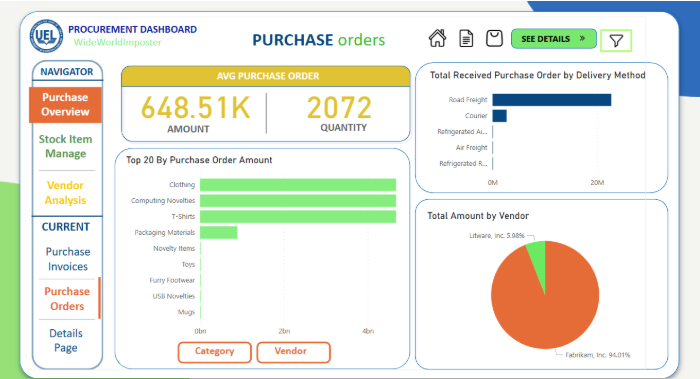

The dashboard page shown, as its layout file describes it:
{"tool":"powerbi","page":{"name":"purchase order","canvas":[1280,720],"ordinal":2},"visuals":[{"type":"shape","box":[51.7,28.3,1181.7,670],"z":0},{"type":"image","box":[1081.5,74.1,56,38],"z":0,"group":"g2"},{"type":"image","box":[75,50,73.3,68.3],"z":1000,"group":"g1"},{"type":"shape","box":[925.1,71.6,150,35],"z":1000,"group":"g2"},{"type":"shape","box":[237,131,516.4,142.9],"z":1000},{"type":"textbox","box":[143.8,56.2,250,35],"z":2000,"group":"g1"},{"type":"shape","box":[757.4,369.4,443.8,299.2],"z":2000},{"type":"image","box":[765.5,68.1,62,40],"z":3000,"group":"g2"},{"type":"textbox","box":[153.4,78.3,183.3,48.3],"z":3000,"group":"g1"},{"type":"shape","box":[241.8,135.8,507.3,36.9],"z":3000},{"type":"image","box":[826.8,66.6,40,43.8],"z":4000,"group":"g2"},{"type":"shape","box":[84.5,126,126,544.1],"z":4000,"group":"g1"},{"type":"textbox","box":[405.2,137.4,211.9,57.3],"z":4000},{"type":"image","box":[869.3,66.6,52.5,43.8],"z":5000,"group":"g2"},{"type":"shape","box":[230.5,280.6,518.3,388],"z":5000},{"type":"textbox","box":[466.3,65.4,277.5,50],"z":6000,"group":"g2"},{"type":"shape","box":[757.4,130.3,443.8,229.1],"z":6000},{"type":"textbox","title":"main","box":[938.5,73.6,141.2,36.2],"z":7000,"group":"g2"},{"type":"textbox","box":[878,127,216,40],"z":7000},{"type":"actionButton","title":"Home","box":[770.6,67.8,45,41.2],"z":8000,"group":"g2"},{"type":"textbox","box":[1054.3,127.1,117.1,40],"z":8000},{"type":"actionButton","title":"filter","box":[1081.5,72.1,56,40],"z":9000,"group":"g2"},{"type":"image","box":[1033.1,76.2,35.7,24.3],"z":10000,"group":"g2"},{"type":"card","fields":{"Values":["fact_PurchaseOrders.AverageAmountNoTax"]},"box":[263.4,161.8,216.2,80.2],"z":11000},{"type":"card","fields":{"Values":["factPurchaseOrders.QuantityPO"]},"box":[475.3,138.9,297.8,127.4],"z":12000},{"type":"barChart","title":"Top 20 By Purchase Order Amount","fields":{"Y":["Sum(factPurchaseOrders.TransactionAmount)"],"Category":["dim_Stock.StockGroupName"]},"box":[244.8,290.6,518.3,329.3],"z":13000},{"type":"clusteredBarChart","title":"Total Received Purchase Order by Delivery Method","fields":{"Category":["dim_DeliveryMethods.DeliveryMethodName"],"Y":["Sum(fact_PurchaseOrders.ReceivedOuters)"]},"box":[777.4,141.7,406.6,217.6],"z":14000},{"type":"textbox","box":[317.9,230.5,108.8,35.8],"z":15000},{"type":"textbox","box":[585.6,227.7,108.8,35.8],"z":16000},{"type":"shape","box":[469.6,183.3,53,71.6],"z":17000},{"type":"pieChart","title":"Total Amount by Vendor","fields":{"Category":["dimSuppliers.SupplierName"],"Y":["Sum(factPurchaseOrders.TransactionAmountNoTax)"]},"box":[773.2,388,423.8,280.6],"z":18000},{"type":"shape","box":[340.8,620,130.3,38.7],"z":19000},{"type":"shape","box":[479.6,620,130.3,38.7],"z":20000},{"type":"textbox","box":[366.5,620,113.1,40.1],"z":21000},{"type":"textbox","box":[505.4,620,113.1,40.1],"z":22000},{"type":"group","id":"g1","title":"Group 3","box":[74.5,50,1087,620.1],"z":23000},{"type":"group","id":"g2","title":"Group 1","box":[466.3,65.4,671.2,50],"z":25000,"group":"g1"},{"type":"textbox","box":[96,130.3,113.1,37.2],"z":27000,"group":"g1"},{"type":"textbox","box":[80.2,173.2,127.4,63],"z":28000,"group":"g1"},{"type":"textbox","box":[74.5,246.3,140.3,63],"z":29000,"group":"g1"},{"type":"textbox","box":[91.7,327.9,104.5,63],"z":30000,"group":"g1"},{"type":"textbox","box":[97.4,399.5,113.1,37.2],"z":31000,"group":"g1"},{"type":"textbox","box":[91.9,443.6,113.6,60.9],"z":32000,"group":"g1"},{"type":"textbox","box":[90.2,514,113.1,61.6],"z":33000,"group":"g1"},{"type":"textbox","box":[88.8,587,113.1,61.6],"z":34000,"group":"g1"},{"type":"shape","box":[86,126,124.6,71.6],"z":35000,"group":"g1"},{"type":"shape","box":[97.4,283.5,98.8,71.6],"z":36000,"group":"g1"},{"type":"shape","box":[97.4,473.9,98.8,71.6],"z":37000,"group":"g1"},{"type":"shape","box":[84.5,363.7,124.6,71.6],"z":38000,"group":"g1"},{"type":"shape","box":[97.4,545.5,98.8,71.6],"z":39000,"group":"g1"},{"type":"shape","box":[182.4,507.1,42.9,72.9],"z":40000,"group":"g1"},{"type":"actionButton","title":"see detail","box":[925.8,68.6,151.4,40],"z":43000,"group":"g1"},{"type":"actionButton","title":"close detail","box":[924.3,71.4,155.7,40],"z":44000,"group":"g1"},{"type":"actionButton","box":[84.3,241.4,124.3,67.1],"z":45000,"group":"g1"},{"type":"actionButton","box":[88.6,322.9,121.4,75.7],"z":46000,"group":"g1"},{"type":"actionButton","box":[772.9,68.6,41.4,38.6],"z":47000,"group":"g1"},{"type":"actionButton","box":[870,68.6,51.4,40],"z":48000,"group":"g1"},{"type":"actionButton","box":[1110,65.7,51.4,50],"z":49000,"group":"g1"}]}

Visuals, with their boxes on the page's 1280x720 design canvas (x1, y1, x2, y2). These are canvas units, not pixel positions in the 700x379 screenshot, which may show the page scaled, cropped or inside an application window:
shape: (left=52, top=28, right=1233, bottom=698)
image: (left=1082, top=74, right=1138, bottom=112)
image: (left=75, top=50, right=148, bottom=118)
shape: (left=925, top=72, right=1075, bottom=107)
shape: (left=237, top=131, right=753, bottom=274)
textbox: (left=144, top=56, right=394, bottom=91)
shape: (left=757, top=369, right=1201, bottom=669)
image: (left=766, top=68, right=828, bottom=108)
textbox: (left=153, top=78, right=337, bottom=127)
shape: (left=242, top=136, right=749, bottom=173)
image: (left=827, top=67, right=867, bottom=110)
shape: (left=84, top=126, right=210, bottom=670)
textbox: (left=405, top=137, right=617, bottom=195)
image: (left=869, top=67, right=922, bottom=110)
shape: (left=230, top=281, right=749, bottom=669)
textbox: (left=466, top=65, right=744, bottom=115)
shape: (left=757, top=130, right=1201, bottom=359)
"main" textbox: (left=938, top=74, right=1080, bottom=110)
textbox: (left=878, top=127, right=1094, bottom=167)
"Home" actionButton: (left=771, top=68, right=816, bottom=109)
textbox: (left=1054, top=127, right=1171, bottom=167)
"filter" actionButton: (left=1082, top=72, right=1138, bottom=112)
image: (left=1033, top=76, right=1069, bottom=100)
card - fact_PurchaseOrders.AverageAmountNoTax: (left=263, top=162, right=480, bottom=242)
card - factPurchaseOrders.QuantityPO: (left=475, top=139, right=773, bottom=266)
"Top 20 By Purchase Order Amount" barChart: (left=245, top=291, right=763, bottom=620)
"Total Received Purchase Order by Delivery Method" clusteredBarChart: (left=777, top=142, right=1184, bottom=359)
textbox: (left=318, top=230, right=427, bottom=266)
textbox: (left=586, top=228, right=694, bottom=264)
shape: (left=470, top=183, right=523, bottom=255)
"Total Amount by Vendor" pieChart: (left=773, top=388, right=1197, bottom=669)
shape: (left=341, top=620, right=471, bottom=659)
shape: (left=480, top=620, right=610, bottom=659)
textbox: (left=366, top=620, right=480, bottom=660)
textbox: (left=505, top=620, right=618, bottom=660)
"Group 3" group: (left=74, top=50, right=1162, bottom=670)
"Group 1" group: (left=466, top=65, right=1138, bottom=115)
textbox: (left=96, top=130, right=209, bottom=168)
textbox: (left=80, top=173, right=208, bottom=236)
textbox: (left=74, top=246, right=215, bottom=309)
textbox: (left=92, top=328, right=196, bottom=391)
textbox: (left=97, top=400, right=210, bottom=437)
textbox: (left=92, top=444, right=206, bottom=504)
textbox: (left=90, top=514, right=203, bottom=576)
textbox: (left=89, top=587, right=202, bottom=649)
shape: (left=86, top=126, right=211, bottom=198)
shape: (left=97, top=284, right=196, bottom=355)
shape: (left=97, top=474, right=196, bottom=546)
shape: (left=84, top=364, right=209, bottom=435)
shape: (left=97, top=546, right=196, bottom=617)
shape: (left=182, top=507, right=225, bottom=580)
"see detail" actionButton: (left=926, top=69, right=1077, bottom=109)
"close detail" actionButton: (left=924, top=71, right=1080, bottom=111)
actionButton: (left=84, top=241, right=209, bottom=308)
actionButton: (left=89, top=323, right=210, bottom=399)
actionButton: (left=773, top=69, right=814, bottom=107)
actionButton: (left=870, top=69, right=921, bottom=109)
actionButton: (left=1110, top=66, right=1161, bottom=116)
